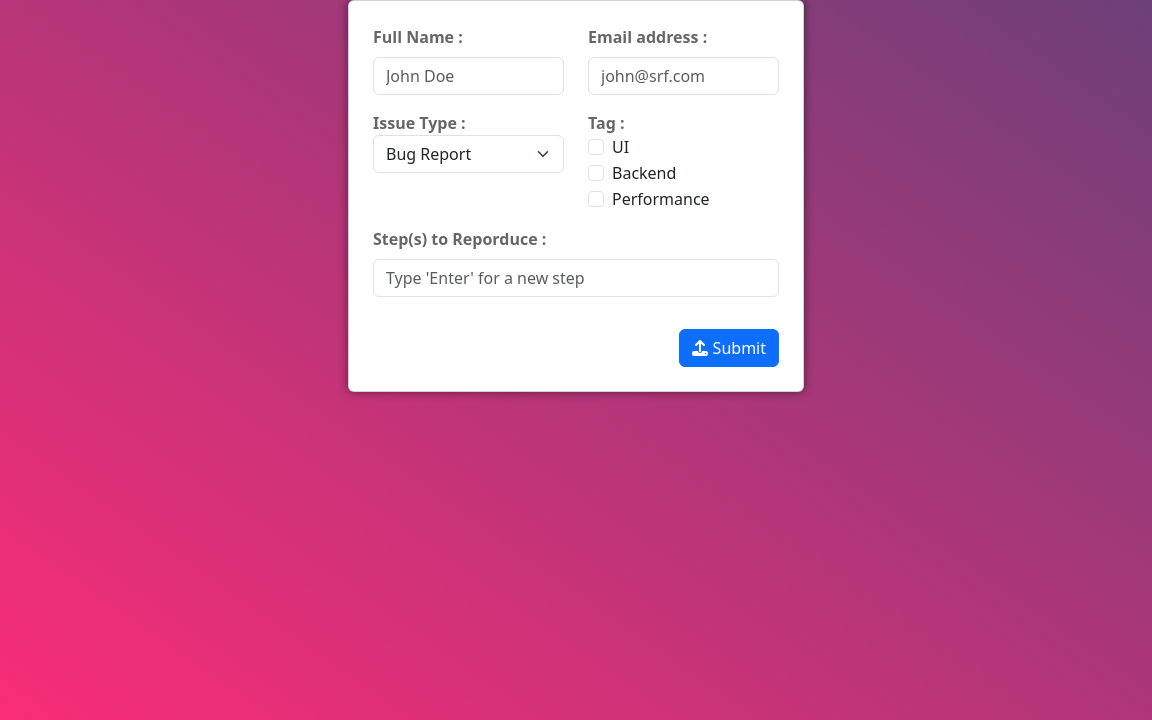
it: Testing Validation › Shows Error After Click without key in information
The width and height of the screenshot is (1152, 720).
What coordinates should you click on to do the following:
click the button "Submit"
I would click on:
 (729, 348)
Its box is [680,329,779,367].
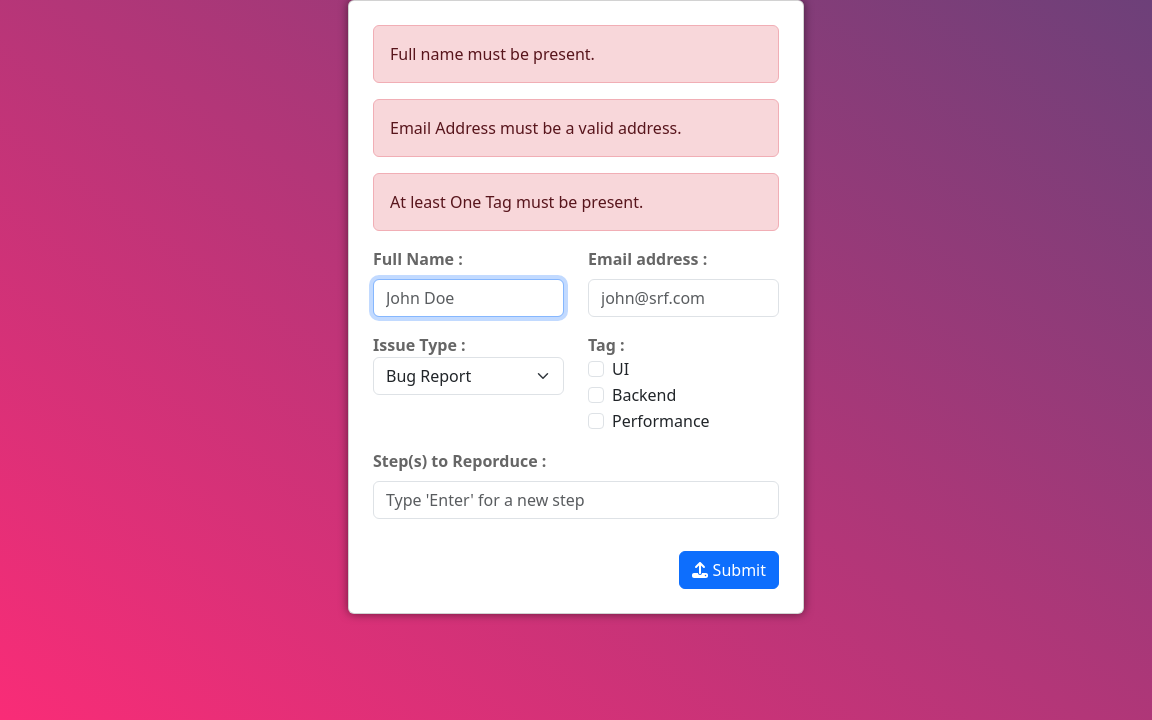
Expected: the text "Full name must be present." is shown, [373,25,779,83]
Expected: the text "Email Address must be a valid address." is shown, [373,99,779,157]
Expected: the text "At least One Tag must be present." is shown, [373,173,779,231]
